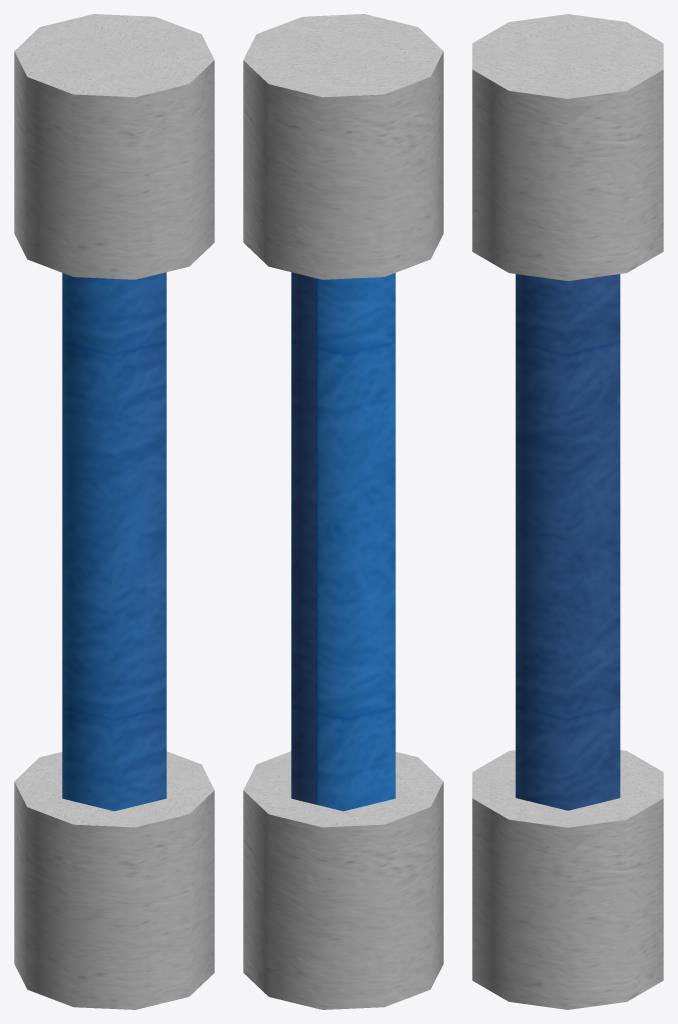
Rendered from gren.FBX.
The picture shows the model from 3 angles, left to right: view 1: azimuth 30°, elevation 25°; view 2: azimuth 150°, elevation 25°; view 3: azimuth 270°, elevation 25°; orthographic projection.
Parts seen in each view (by area): view 1: gren; view 2: gren; view 3: gren.
Part boxes in pixels (x1,y1,x2,y2): gren: (14, 14, 214, 1009); gren: (243, 14, 443, 1009); gren: (472, 14, 663, 1009).
Size of the model in its own units: 10 by 9.51 by 50.
2 materials, 2 textured.
